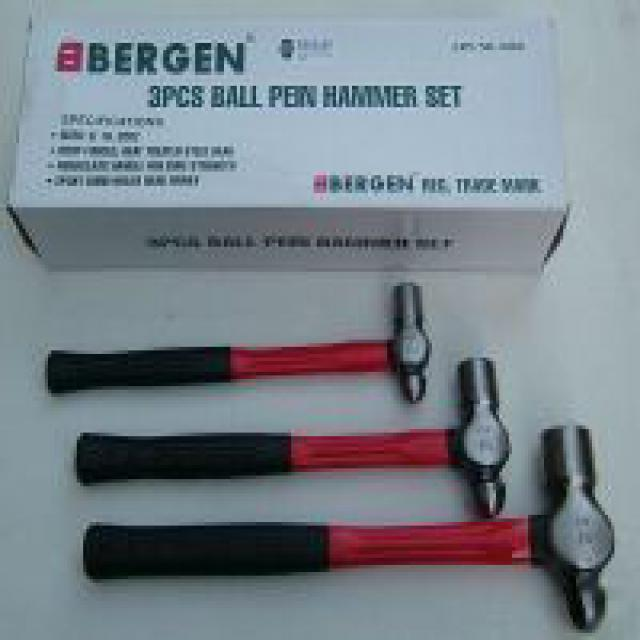hammer: (63, 417, 629, 640), (53, 349, 525, 528), (32, 266, 442, 412)
